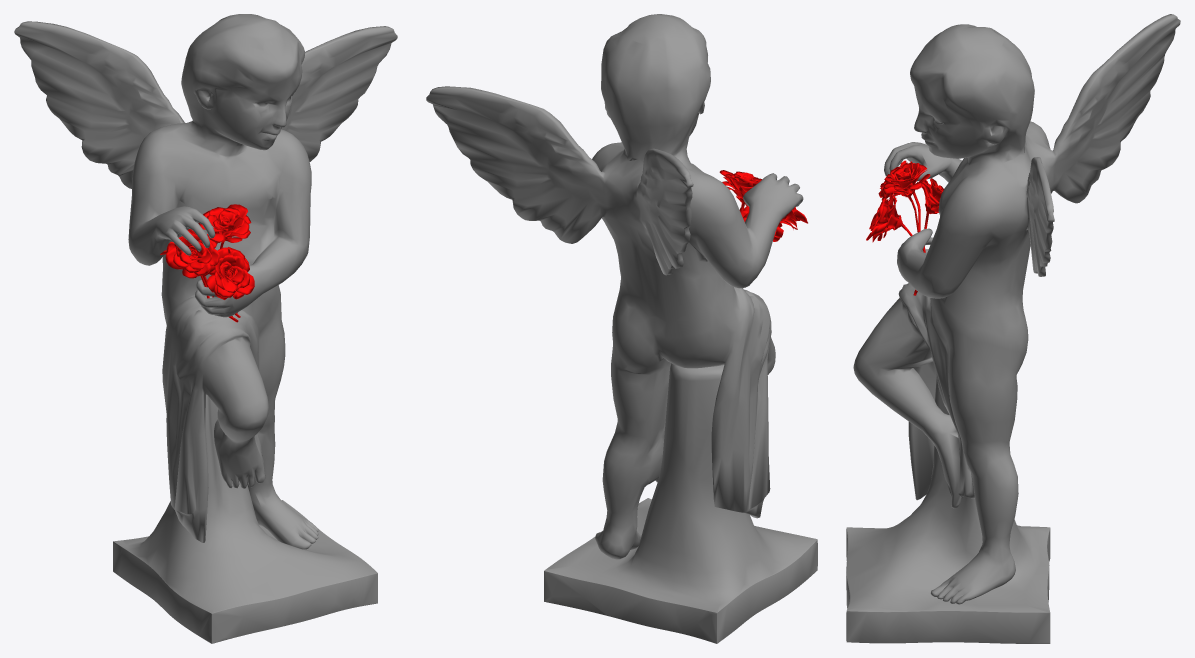
The model's file is angel.FBX.
The picture shows the model from 3 angles, left to right: view 1: azimuth 30°, elevation 25°; view 2: azimuth 150°, elevation 25°; view 3: azimuth 270°, elevation 25°; orthographic projection. The views are drawn at different scales.
Visible parts, largest first — view 1: 对象001_简化1_0, Arch34_005_obj_00_简化1_0; view 2: 对象001_简化1_0, Arch34_005_obj_00_简化1_0; view 3: 对象001_简化1_0, Arch34_005_obj_00_简化1_0.
Boxes of the visible parts, box(x1,y1,x2,y2) form: 对象001_简化1_0: box(14, 14, 397, 643); Arch34_005_obj_00_简化1_0: box(160, 204, 254, 322); 对象001_简化1_0: box(426, 14, 817, 643); Arch34_005_obj_00_简化1_0: box(719, 170, 807, 241); 对象001_简化1_0: box(846, 14, 1180, 643); Arch34_005_obj_00_简化1_0: box(866, 160, 943, 295).
Bounding box in the file's own units: 60.01 × 99.61 × 52.4.
